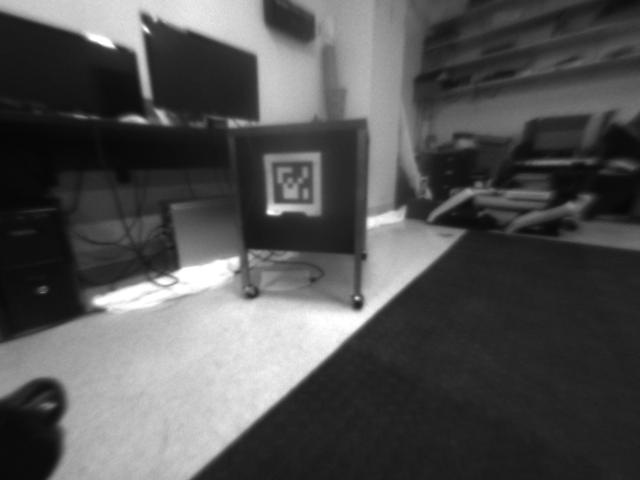coffee_cup: (322, 87, 347, 121)
